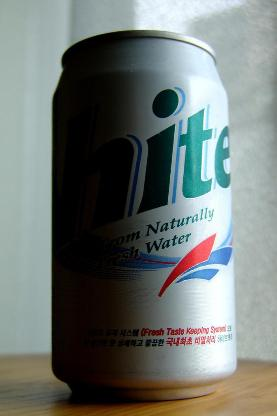Can: (46, 26, 240, 406)
